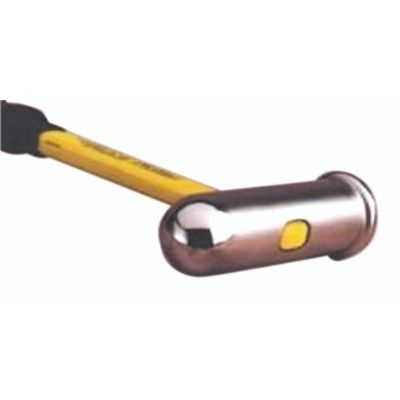hammer: (1, 98, 382, 279)
